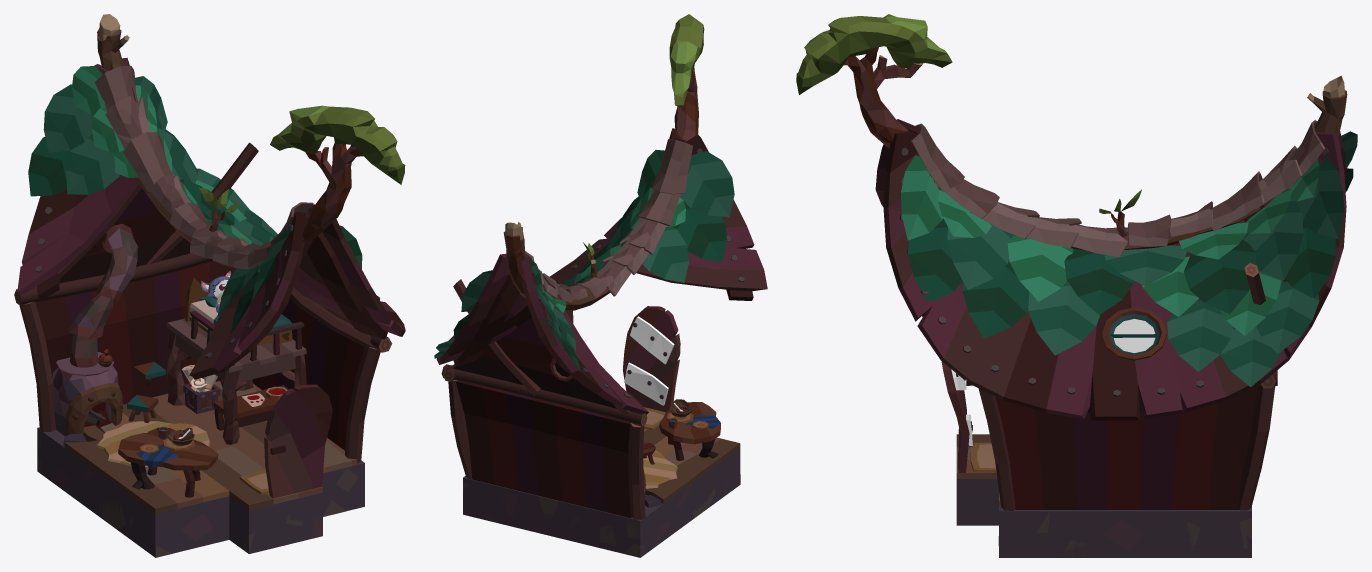
The model's file is 0030_houseOfForest.fbx.
The picture shows the model from 3 angles, left to right: view 1: azimuth 30°, elevation 25°; view 2: azimuth 150°, elevation 25°; view 3: azimuth 270°, elevation 25°; orthographic projection. The views are drawn at different scales.
Visible parts, largest first — view 1: Plate, Wall_BottomA, LeafA (×8), RoofB02, RoofA, Door, RoofB01, Wall_BottomB, Roof_WoodLeaf, SupportFixtureB (×2), FireplaceB, RoofTileA (×3) (+21 smaller); view 2: Wall_BottomA, Plate, RoofA, LeafA (×3), RoofB01, Wall_Top, RoofB02, Door, RoofTileA (×2), SupportFixtureB (×2), RoofTileC (×3), Roof_WoodLeaf (+10 smaller); view 3: RoofA, Wall_BottomB, LeafA (×8), Plate, LeafB (×5), LeafC (×8), Roof_WoodLeaf, RoofTileA (×5), RoofTileC (×4), SupportFixtureB (×2), Roof_Wood2, Roof_Wood (+5 smaller).
Boxes of the visible parts, left/top/right/bottom form: Plate: left=37, top=381, right=364, bottom=557; Wall_BottomA: left=35, top=261, right=231, bottom=404; LeafA (×8): left=43, top=76, right=290, bottom=315; RoofB02: left=17, top=64, right=138, bottom=301; RoofA: left=122, top=57, right=405, bottom=339; Door: left=264, top=384, right=332, bottom=498; RoofB01: left=189, top=211, right=305, bottom=379; Wall_BottomB: left=252, top=299, right=364, bottom=450; Roof_WoodLeaf: left=270, top=105, right=405, bottom=184; SupportFixtureB (×2): left=19, top=301, right=380, bottom=463; FireplaceB: left=68, top=223, right=137, bottom=367; RoofTileA (×3): left=95, top=65, right=216, bottom=237; Wall_BottomA: left=456, top=381, right=631, bottom=517; Plate: left=463, top=407, right=740, bottom=557; RoofA: left=436, top=128, right=685, bottom=366; LeafA (×3): left=461, top=151, right=734, bottom=311; RoofB01: left=636, top=134, right=767, bottom=300; Wall_Top: left=453, top=318, right=616, bottom=408; RoofB02: left=521, top=257, right=648, bottom=414; Door: left=623, top=306, right=680, bottom=412; RoofTileA (×2): left=636, top=139, right=692, bottom=225; SupportFixtureB (×2): left=448, top=379, right=645, bottom=519; RoofTileC (×3): left=584, top=218, right=666, bottom=296; Roof_WoodLeaf: left=669, top=14, right=704, bottom=106; RoofA: left=883, top=130, right=1346, bottom=420; Wall_BottomB: left=995, top=385, right=1258, bottom=509; LeafA (×8): left=947, top=156, right=1343, bottom=387; Plate: left=956, top=434, right=1251, bottom=557; LeafB (×5): left=908, top=218, right=1335, bottom=338; LeafC (×8): left=901, top=155, right=1319, bottom=335; Roof_WoodLeaf: left=796, top=14, right=952, bottom=94; RoofTileA (×5): left=911, top=120, right=1324, bottom=246; RoofTileC (×4): left=970, top=145, right=1302, bottom=257; SupportFixtureB (×2): left=978, top=385, right=1275, bottom=510; Roof_Wood2: left=844, top=47, right=1157, bottom=249; Roof_Wood: left=1157, top=76, right=1347, bottom=247.
Size of the model in its own units: 12.87 by 20.04 by 20.46.
